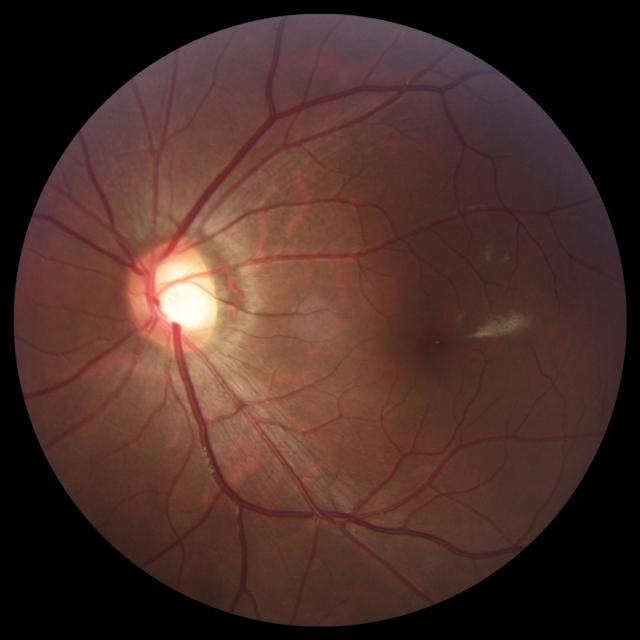OC: (150, 254, 211, 330)
OD: (126, 240, 222, 349)
